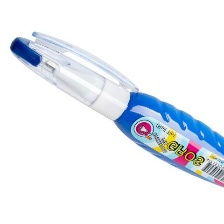correction_fluid: (7, 28, 224, 196)
